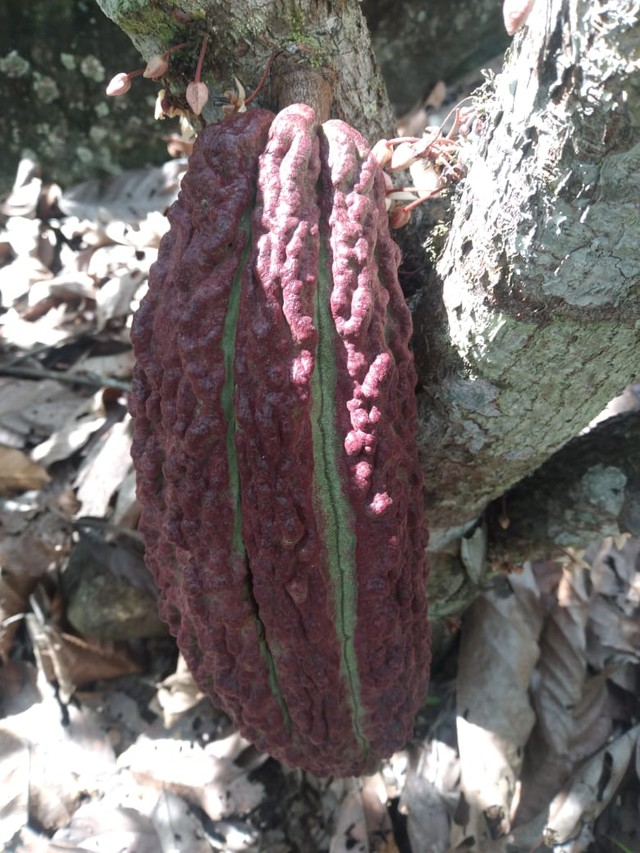Health: (117, 58, 445, 798)
